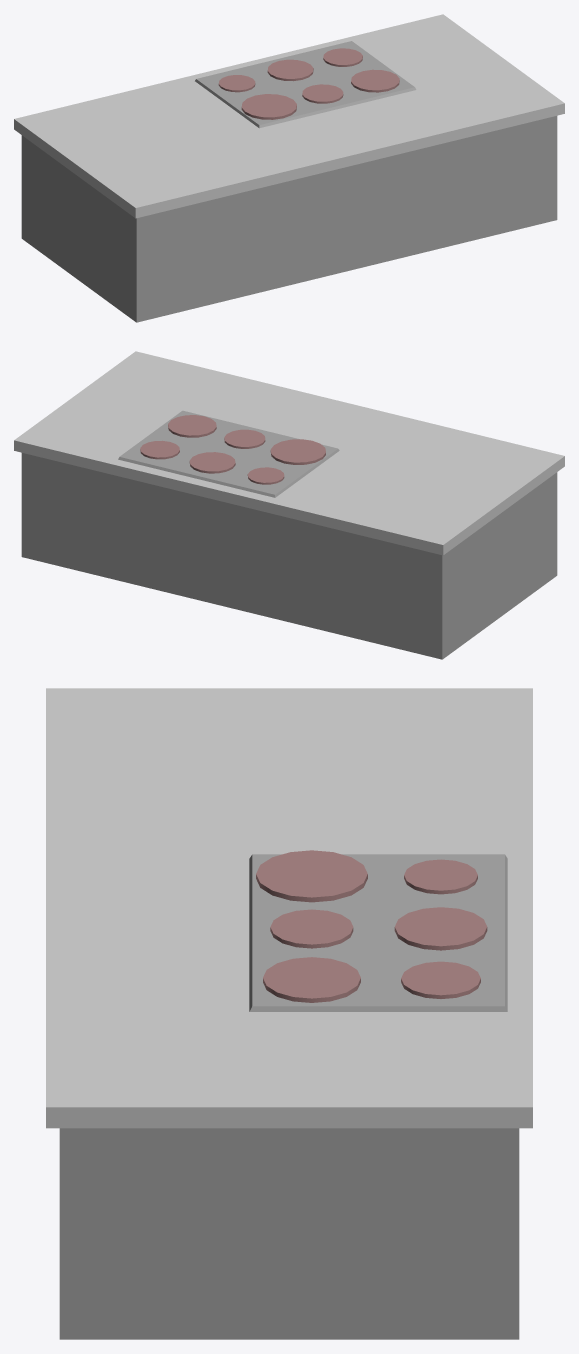
Rendered from gb_05_kitchentable_01.fbx.
The picture shows the model from 3 angles, top to bottom: view 1: azimuth 30°, elevation 25°; view 2: azimuth 150°, elevation 25°; view 3: azimuth 270°, elevation 25°; orthographic projection. The views are drawn at different scales.
Visible parts, largest first — view 1: gb_05_kitchentable_01; view 2: gb_05_kitchentable_01; view 3: gb_05_kitchentable_01.
Part boxes in pixels (<box>): gb_05_kitchentable_01: <box>14,14,564,322</box>; gb_05_kitchentable_01: <box>14,351,564,659</box>; gb_05_kitchentable_01: <box>46,688,532,1339</box>.
Size of the model in its own units: 380 by 104 by 187.
